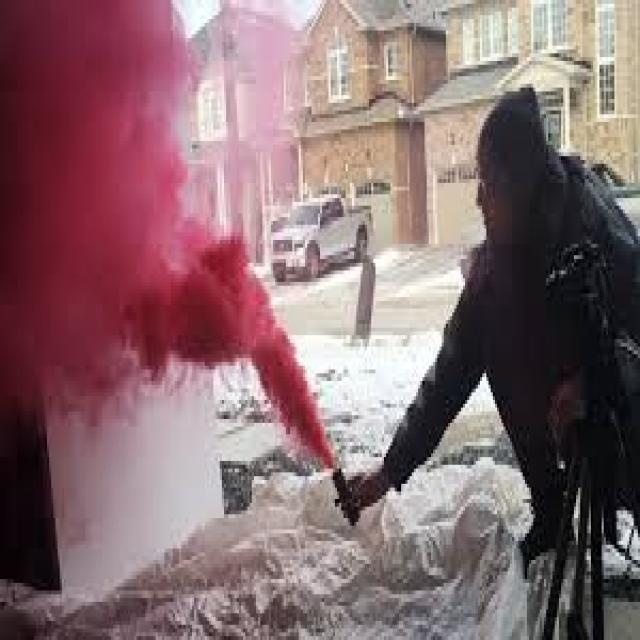Smoke: (0, 0, 336, 468)
